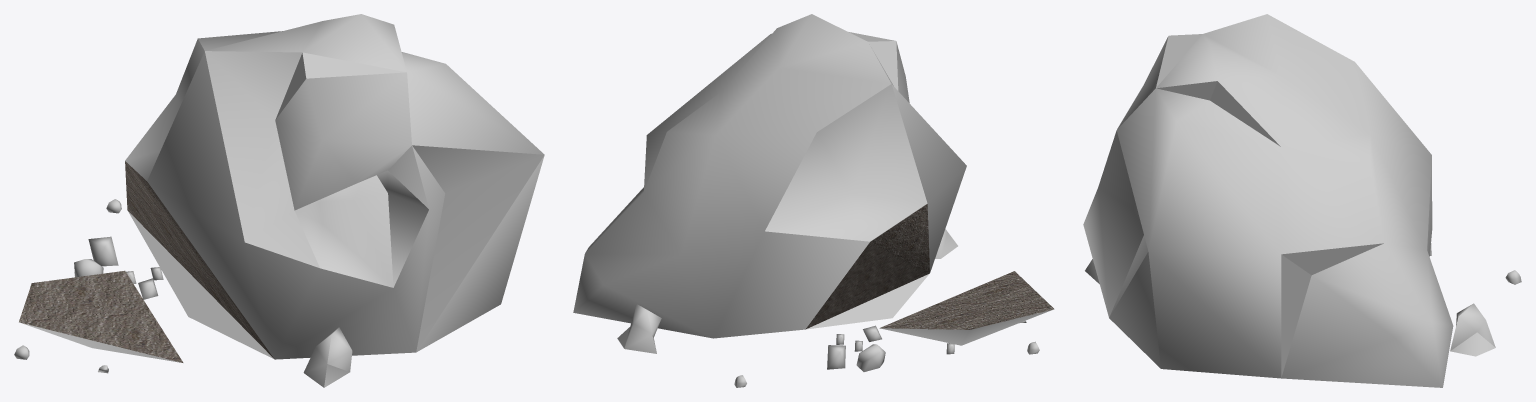
File: medium_boulder02.fbx
3 views of the same model, side by side, from view 1: azimuth 30°, elevation 25°; view 2: azimuth 150°, elevation 25°; view 3: azimuth 270°, elevation 25° (orthographic). The views are drawn at different scales.
Visible parts, largest first — view 1: mesh_0, mesh_1; view 2: mesh_0, mesh_1; view 3: mesh_0.
Part boxes in pixels (box(x1,y1,x2,y2)): mesh_0: box(14, 14, 544, 387); mesh_1: box(19, 161, 273, 362); mesh_0: box(573, 14, 1053, 387); mesh_1: box(805, 204, 1054, 329); mesh_0: box(1083, 14, 1521, 387).
Size of the model in its own units: 454 by 271 by 392.
